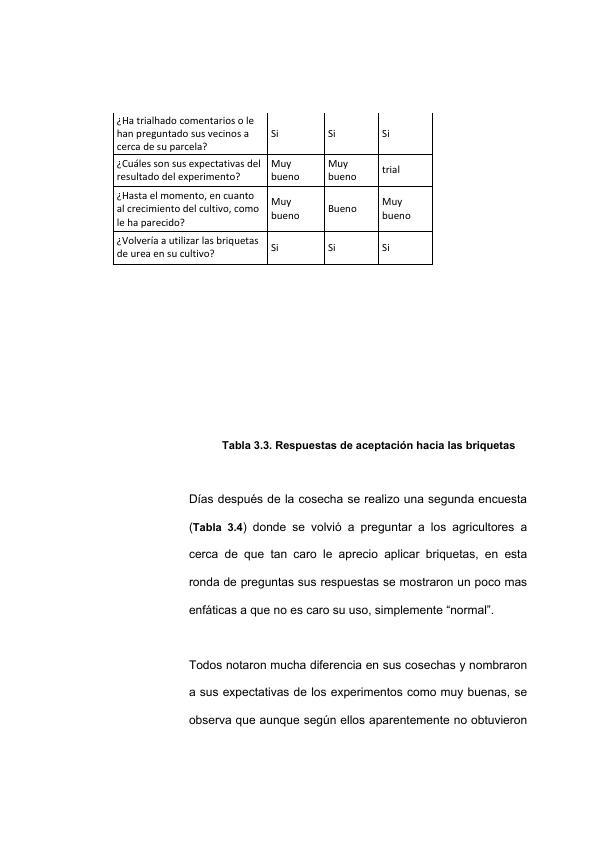table: (107, 107, 439, 271)
text: (186, 489, 531, 626), (185, 656, 532, 734), (217, 431, 518, 459)
